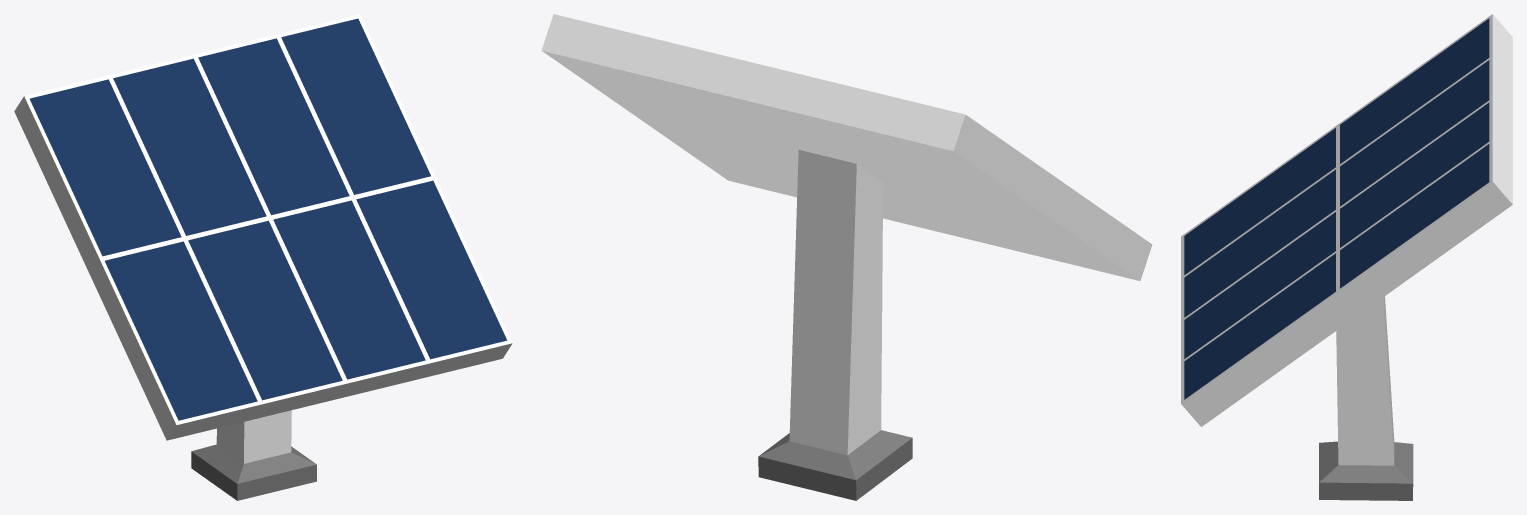
The model's file is SolarPanel.fbx.
3 views of the same model, side by side, from view 1: azimuth 30°, elevation 25°; view 2: azimuth 150°, elevation 25°; view 3: azimuth 270°, elevation 25° (orthographic). The views are drawn at different scales.
Visible parts, largest first — view 1: SolarBattery; view 2: SolarBattery; view 3: SolarBattery.
Part boxes in pixels (x1,y1,x2,y2): SolarBattery: (14,14,512,500); SolarBattery: (541,14,1152,500); SolarBattery: (1181,14,1512,500).
Bounding box in the file's own units: 1410 × 1504 × 1180.
